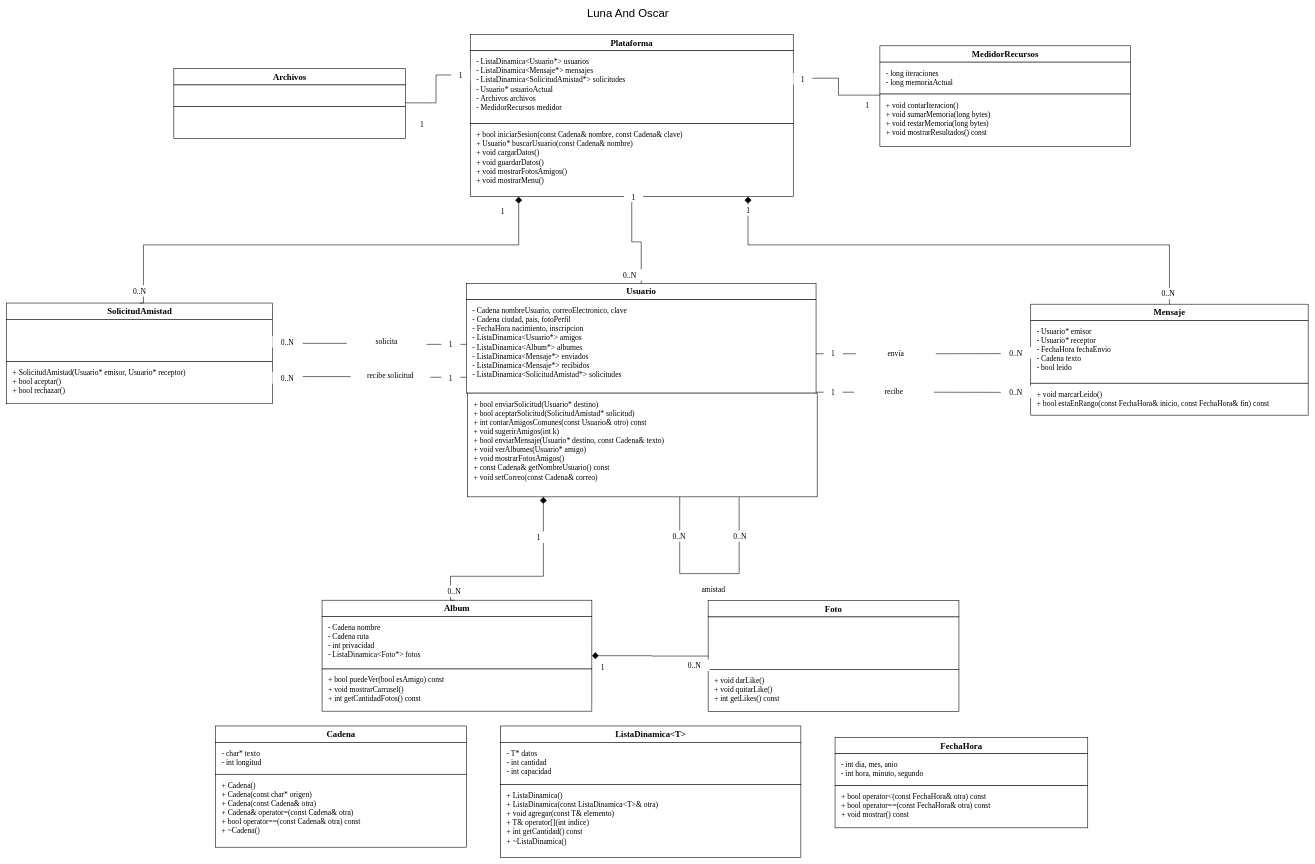
Some shapes in this 1315 by 864 pixel diagram are drawn without their labels. The centre of each missing label's shape, as x and y in pixels:
+ bool cargar(Plataforma& sistema) + bool guardar(const Plataforma& sistema): point (289, 122)
- Cadena rutaBase: point (289, 95)
- FechaHora captura - long tamano - Cadena ruta - int likes: point (833, 642)
- Usuario* emisor - Usuario* receptor - int estado: point (139, 340)
